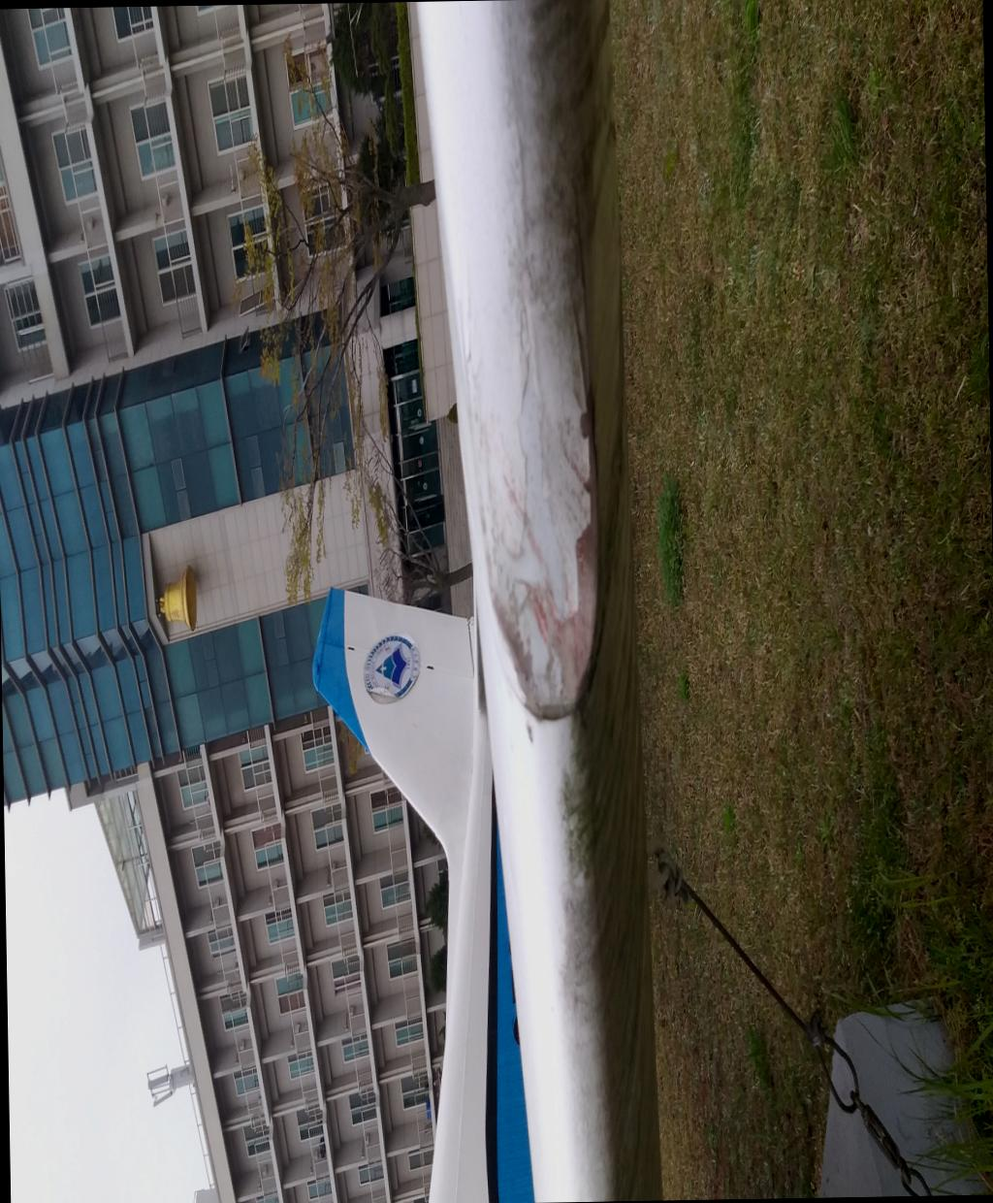corrosion: (51, 5, 215, 98)
dent: (84, 5, 210, 85)
